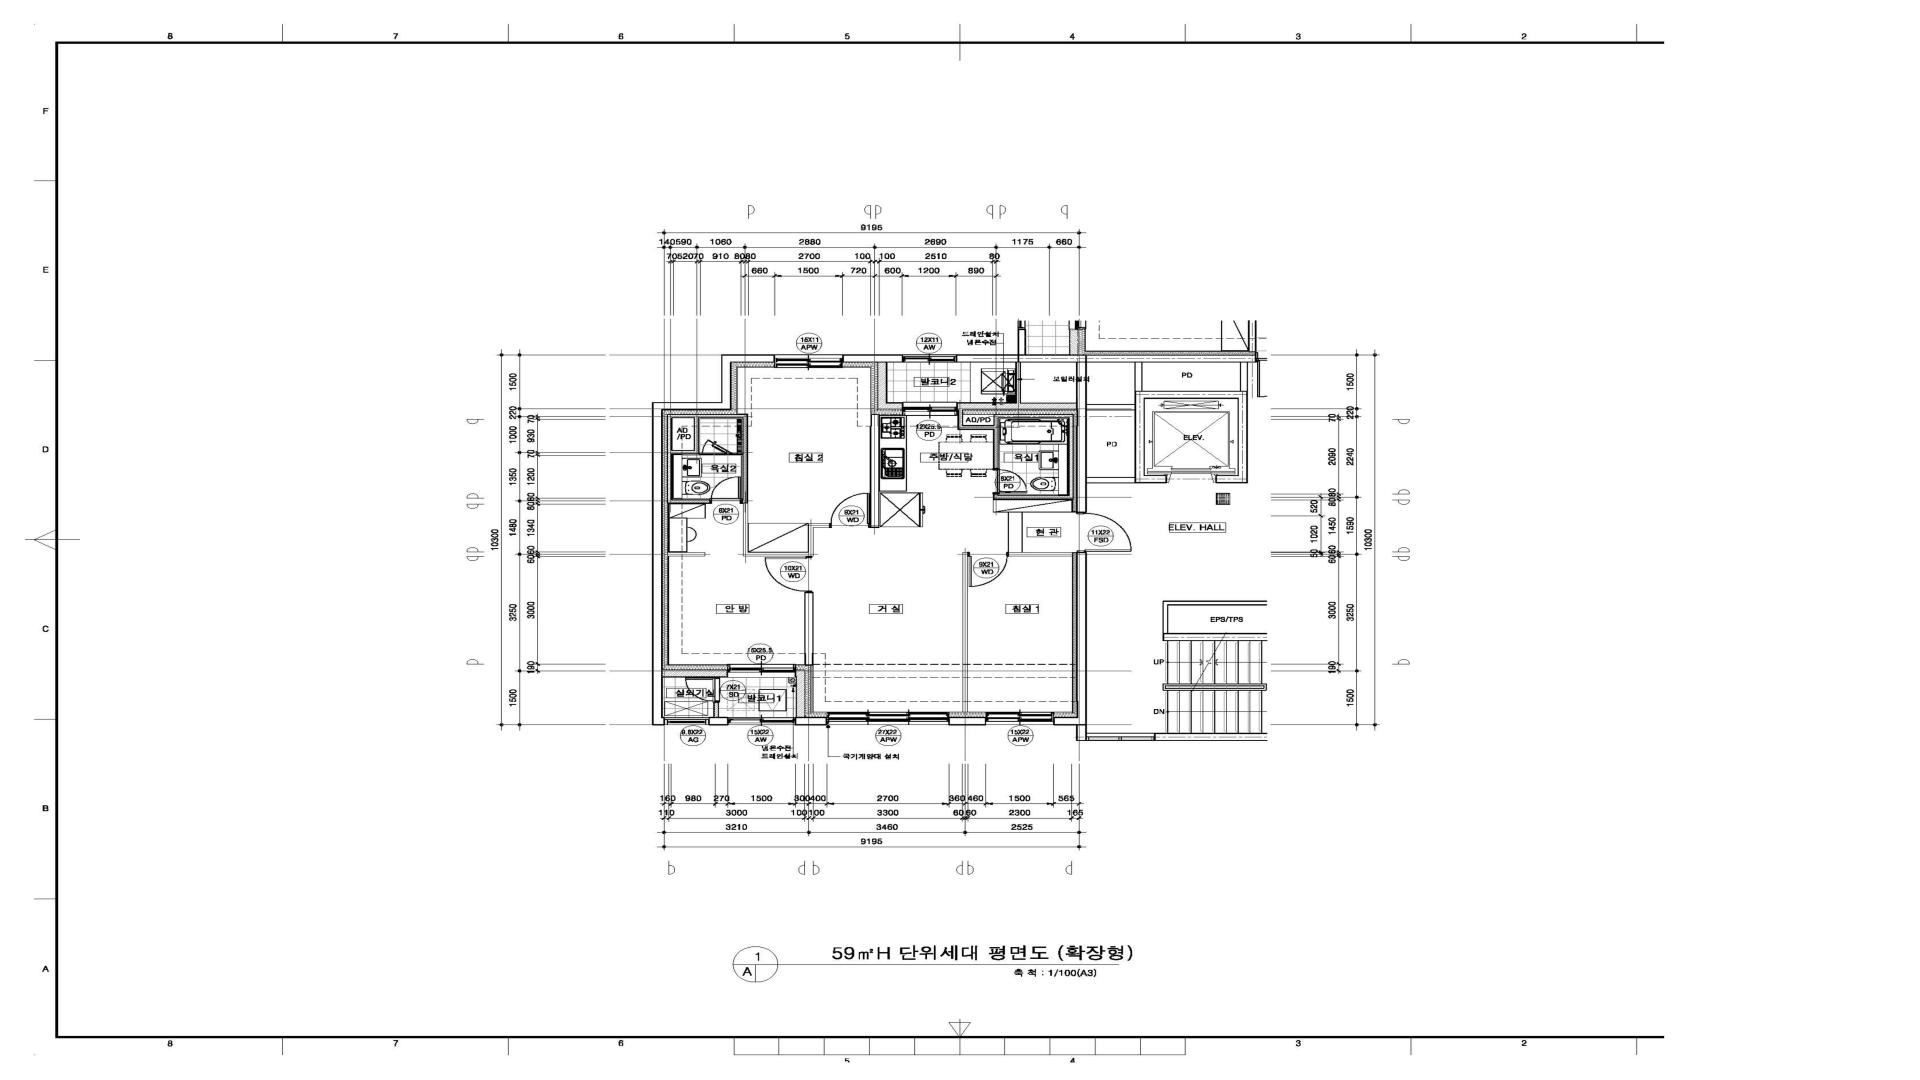background: (0, 0, 1920, 1080)
door: (1076, 513, 1131, 553), (764, 556, 812, 592), (968, 551, 1009, 587), (829, 493, 870, 527), (992, 468, 1029, 495), (709, 476, 742, 504), (691, 678, 727, 703), (702, 439, 733, 455)
wall: (651, 402, 663, 725), (1018, 355, 1255, 363), (1076, 553, 1087, 725), (1076, 363, 1087, 513), (869, 414, 880, 527), (1237, 390, 1247, 484), (1134, 390, 1145, 483), (957, 402, 1076, 410), (1154, 733, 1267, 741), (1145, 390, 1238, 400), (963, 553, 968, 712), (1163, 633, 1267, 641), (804, 592, 814, 665), (663, 402, 732, 410), (1168, 600, 1267, 605), (663, 670, 728, 678), (795, 670, 806, 717), (956, 355, 1018, 363), (843, 355, 902, 363), (742, 418, 748, 504), (878, 363, 887, 410), (721, 355, 774, 363), (721, 363, 732, 402), (993, 495, 1069, 500), (667, 414, 671, 500), (1069, 418, 1073, 498), (1087, 477, 1134, 484), (1087, 404, 1134, 410), (671, 414, 748, 418), (998, 414, 1073, 418), (949, 717, 986, 725), (993, 414, 998, 468), (742, 504, 748, 556), (748, 553, 814, 556), (795, 717, 827, 725), (1009, 553, 1072, 556), (1134, 363, 1142, 390), (1240, 363, 1247, 390), (1015, 363, 1021, 402), (1145, 475, 1167, 484), (1216, 475, 1238, 484), (1054, 716, 1076, 725), (694, 418, 699, 454), (1163, 600, 1168, 633), (1076, 725, 1087, 741), (667, 500, 709, 504), (963, 425, 993, 430), (808, 524, 814, 553), (667, 553, 705, 556), (887, 402, 903, 410), (957, 410, 963, 430), (716, 717, 728, 725), (671, 450, 694, 454), (713, 703, 719, 717), (814, 524, 829, 527), (663, 717, 671, 725), (993, 500, 997, 513), (733, 454, 744, 455), (699, 454, 702, 455)
window: (827, 712, 949, 725), (727, 663, 795, 678), (774, 355, 843, 368), (986, 712, 1054, 725), (903, 402, 957, 415), (728, 717, 795, 725), (1087, 733, 1154, 741), (902, 355, 956, 363), (671, 717, 716, 725)
